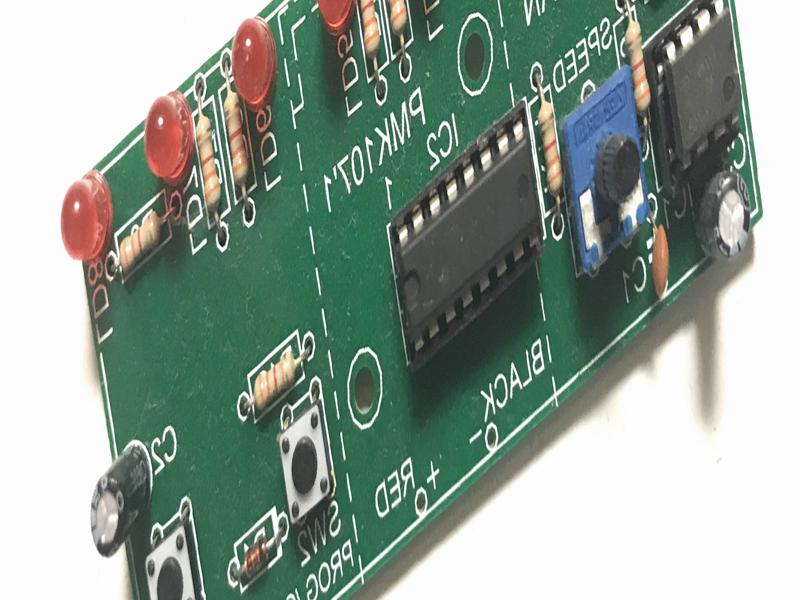Capacitor: (87, 445, 154, 561), (692, 167, 756, 269)
Diode: (236, 523, 277, 586)
LED: (54, 171, 117, 264), (139, 88, 196, 186), (227, 14, 279, 109)
Resistor: (244, 339, 304, 418), (528, 91, 567, 204), (114, 197, 167, 280), (615, 14, 655, 115), (217, 90, 258, 186), (193, 110, 229, 213), (357, 1, 380, 72)
